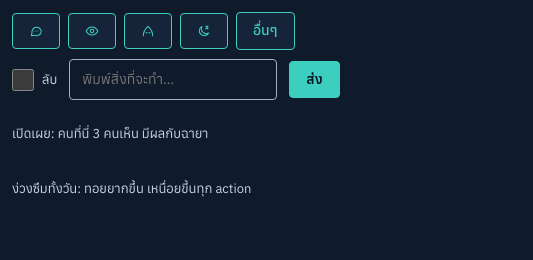
Test: C2 action bar on a phone (GEN-134: four icons from the mockup + อื่นๆ) › GEN-134: the place chips are in the อื่นๆ list, not the icon row
Expected: the button "พัก (5 เหรียญ)" is not shown
Step 1. Click the button "อื่นๆ" → (265, 31), box [236,12,295,50]
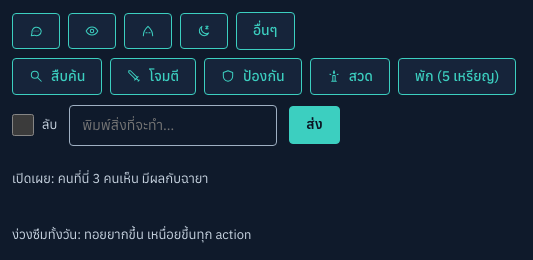
Expected: the button "พัก (5 เหรียญ)" is shown, [398,58,516,95]
